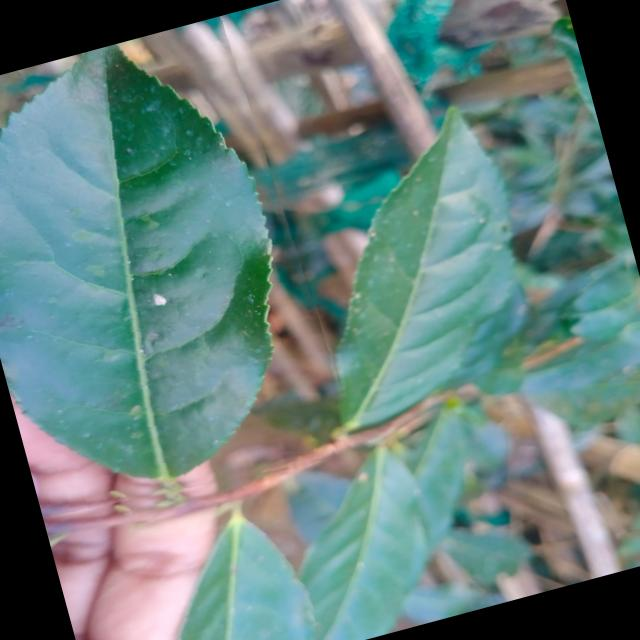Category D(7+ days, Not for Tea): (0, 9, 360, 536)
